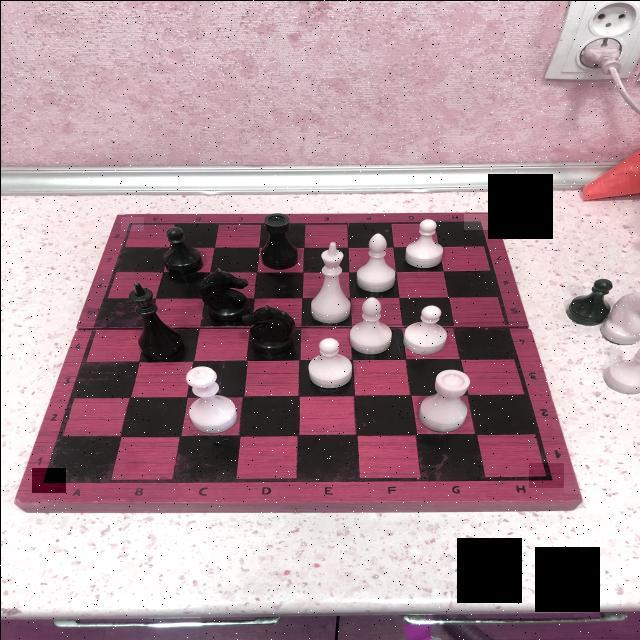chess-table-corners: (528, 462, 563, 487), (31, 467, 65, 492), (463, 213, 488, 229), (120, 216, 143, 230)
